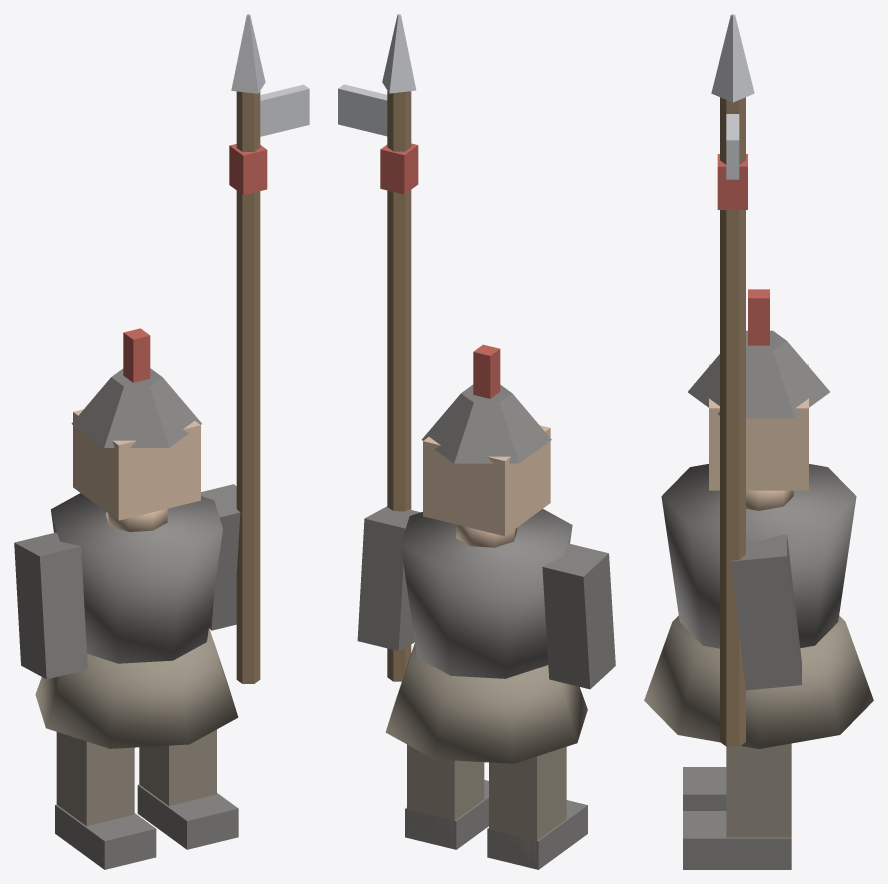
Rendered from troop-pikeman.glb.
3 views of the same model, side by side, from view 1: azimuth 30°, elevation 25°; view 2: azimuth 150°, elevation 25°; view 3: azimuth 270°, elevation 25° (orthographic). The views are drawn at different scales.
Parts seen in each view (by area): view 1: body, skirt, pike, arm_l, head, helmet, leg_l, leg_r, foot_r, foot_l, arm_r, pike_blade (+4 smaller); view 2: body, skirt, pike, head, arm_l, helmet, leg_l, arm_r, leg_r, foot_l, foot_r, pike_blade (+4 smaller); view 3: body, skirt, pike, arm_r, leg_r, helmet, head, foot_r, pike_tip, foot_l, pike_tassel, plume (+2 smaller).
Part boxes in pixels (box(x1,y1,x2,y2)): body: box(50, 493, 222, 663); skirt: box(35, 628, 238, 748); pike: box(236, 91, 260, 683); arm_l: box(14, 532, 87, 679); head: box(73, 409, 200, 520); helmet: box(71, 368, 201, 447); leg_l: box(56, 732, 134, 826); leg_r: box(139, 729, 216, 805); foot_r: box(137, 784, 238, 849); foot_l: box(55, 804, 156, 869); arm_r: box(201, 484, 240, 630); pike_blade: box(260, 84, 309, 136); body: box(401, 509, 572, 678); skirt: box(385, 643, 587, 763); pike: box(387, 91, 411, 681); head: box(423, 425, 550, 536); arm_l: box(542, 543, 615, 689); helmet: box(421, 384, 551, 463); leg_l: box(489, 747, 566, 868); arm_r: box(357, 506, 420, 650); leg_r: box(407, 744, 484, 848); foot_l: box(487, 800, 587, 869); foot_r: box(405, 780, 488, 849); pike_blade: box(338, 84, 387, 136); body: box(661, 464, 856, 648); skirt: box(644, 615, 873, 748); pike: box(720, 97, 745, 746); arm_r: box(731, 534, 801, 690); leg_r: box(726, 743, 791, 837); helmet: box(688, 330, 829, 418); head: box(709, 364, 808, 490); foot_r: box(683, 811, 791, 869); pike_tip: box(711, 14, 754, 102); foot_l: box(683, 767, 726, 810); pike_tassel: box(717, 154, 747, 209); plume: box(748, 289, 769, 345).
Size of the model in its own units: 0.156 by 0.444 by 0.106.
